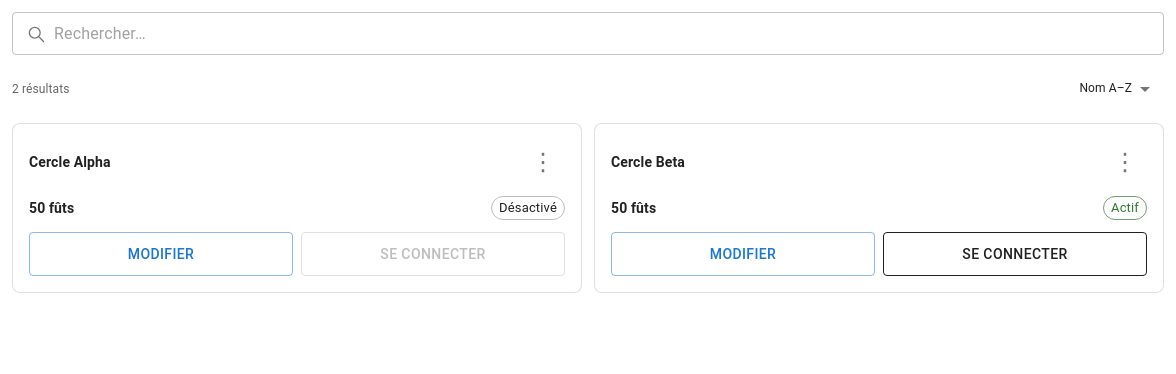
Test: shows switch failures in the cercle list without navigating away
Click the button with aria-label "Se connecter en tant que Cercle Beta": (1015, 254) [883, 232, 1147, 276]
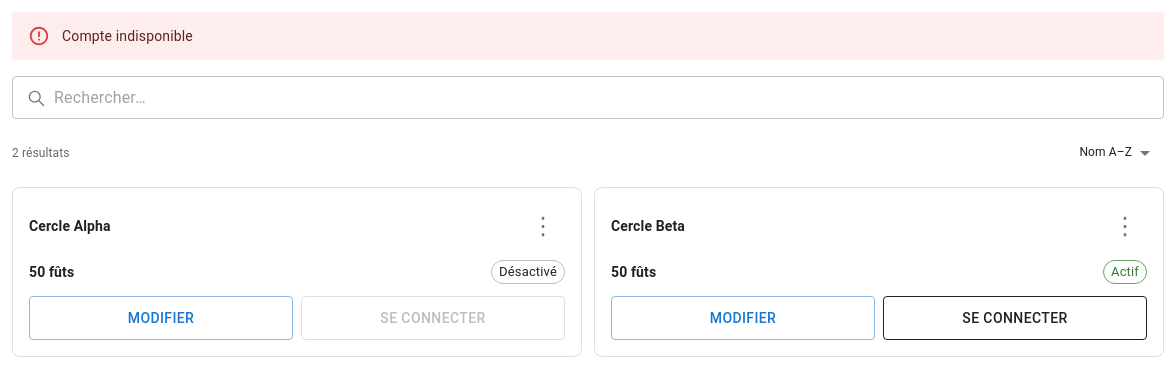
expect the button with aria-label "Se connecter en tant que Cercle Beta" is enabled: met, box [883, 296, 1147, 340]
expect the message "Compte indisponible" is shown: met, box [12, 12, 1164, 60]
